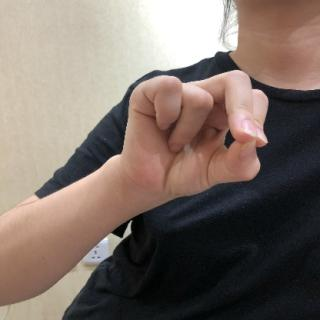QAAF: (114, 65, 271, 206)
